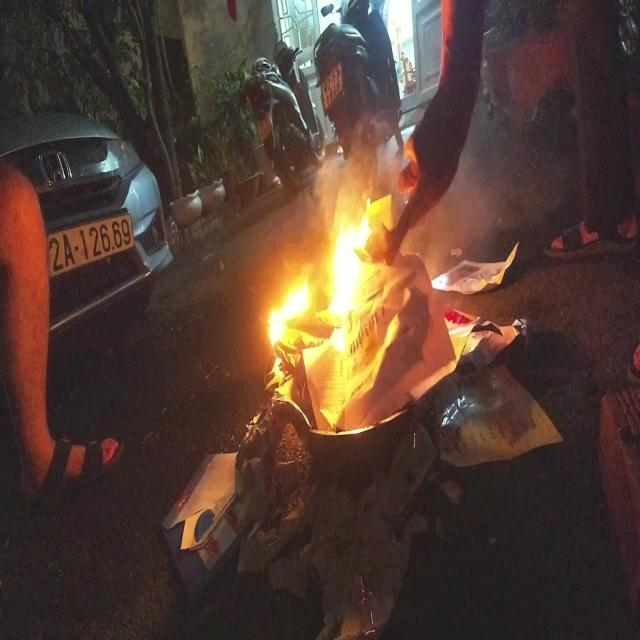Fire: (266, 202, 401, 378)
Smoke: (401, 190, 493, 278), (316, 106, 376, 230)
